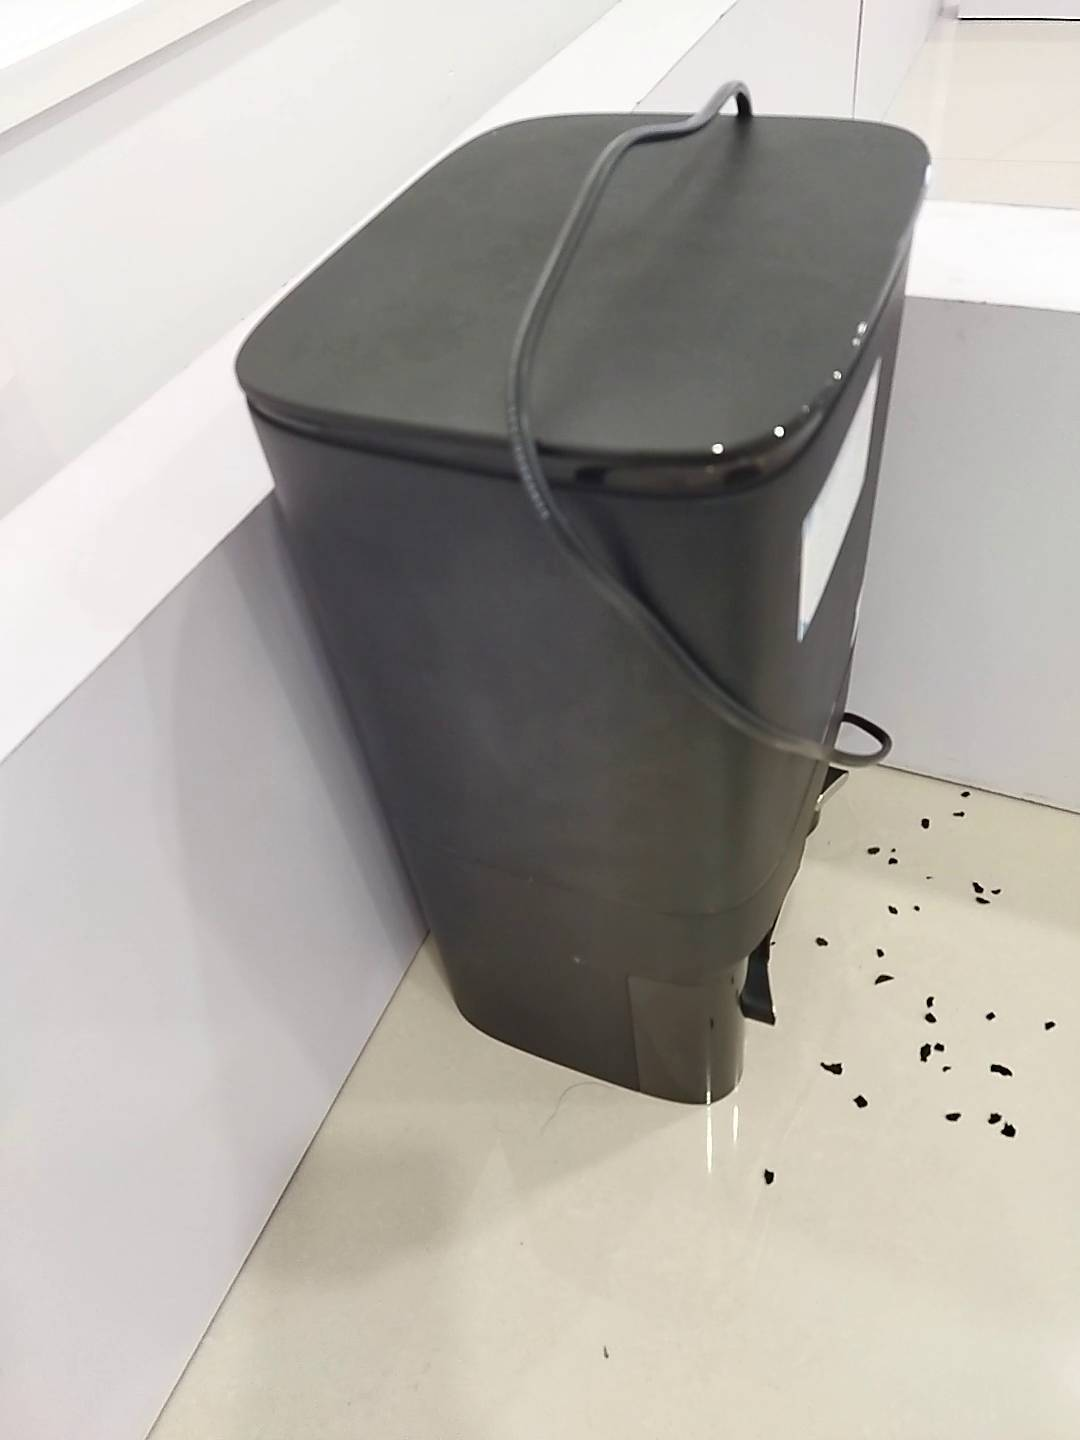dust collecting barrel: (233, 113, 933, 1107)
